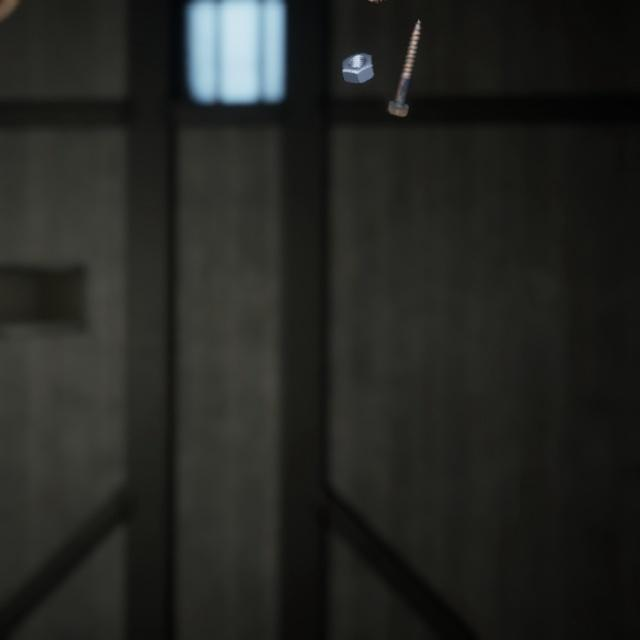bolt: (382, 6, 425, 111)
nut: (339, 39, 380, 77)
